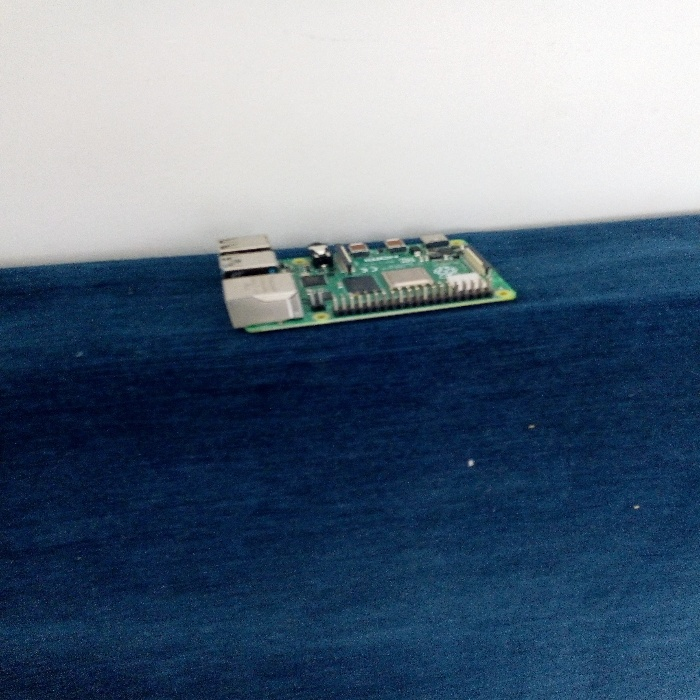raspberry: (196, 215, 527, 324)
